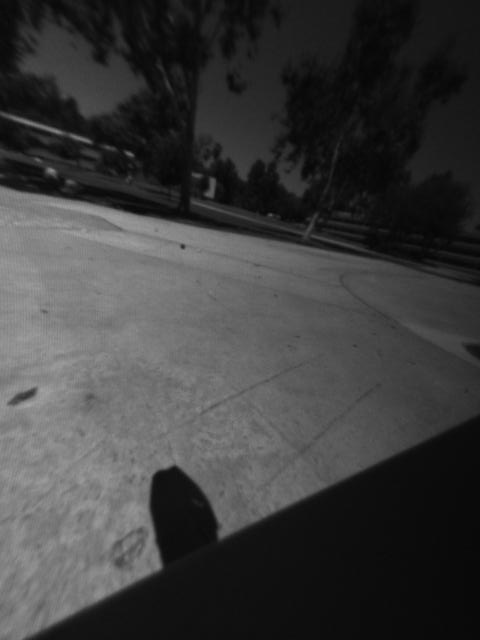dogtoy: (174, 237, 192, 253)
